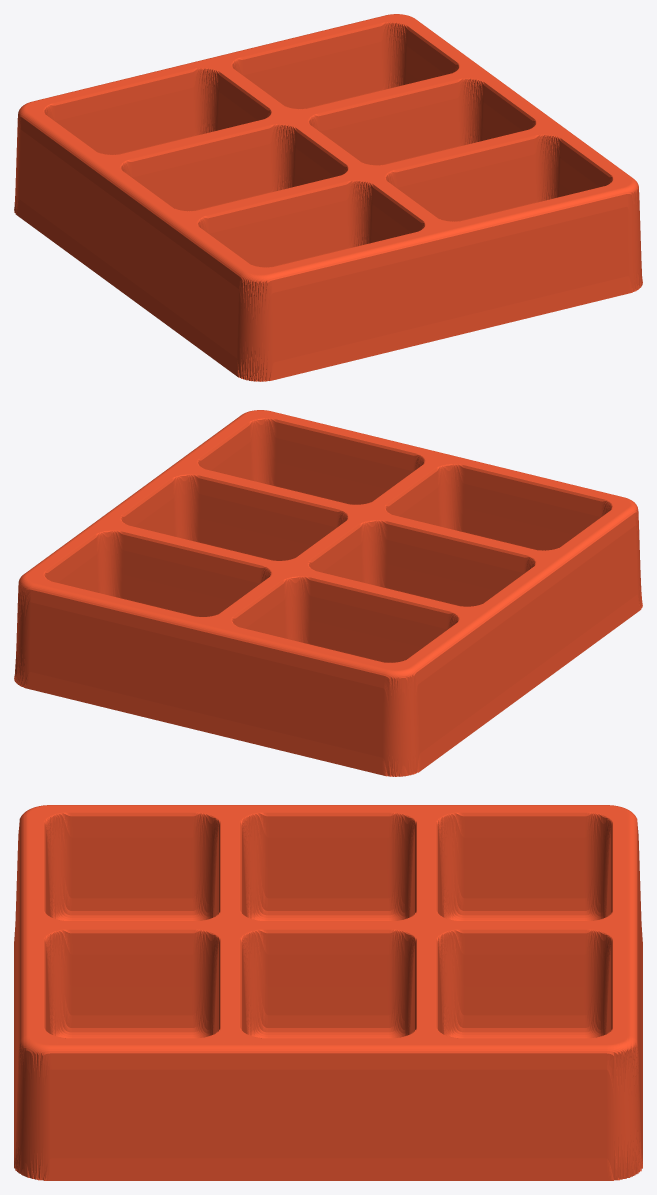
File: mold.glb
3 renders of one model, top to bottom at view 1: azimuth 30°, elevation 25°; view 2: azimuth 150°, elevation 25°; view 3: azimuth 270°, elevation 25°, orthographic. The views are drawn at different scales.
Visible parts, largest first — view 1: geometry_0; view 2: geometry_0; view 3: geometry_0.
Part boxes in pixels (x1=…): geometry_0: x1=14, y1=14, x2=642, y2=381; geometry_0: x1=14, y1=410, x2=642, y2=776; geometry_0: x1=14, y1=805, x2=642, y2=1180.
Size of the model in its own units: 0.1492 by 0.036 by 0.1579.
